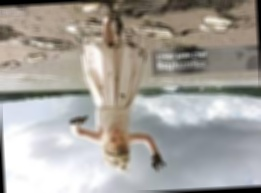earth: (110, 70, 119, 83), (139, 50, 147, 62), (119, 92, 127, 100)
